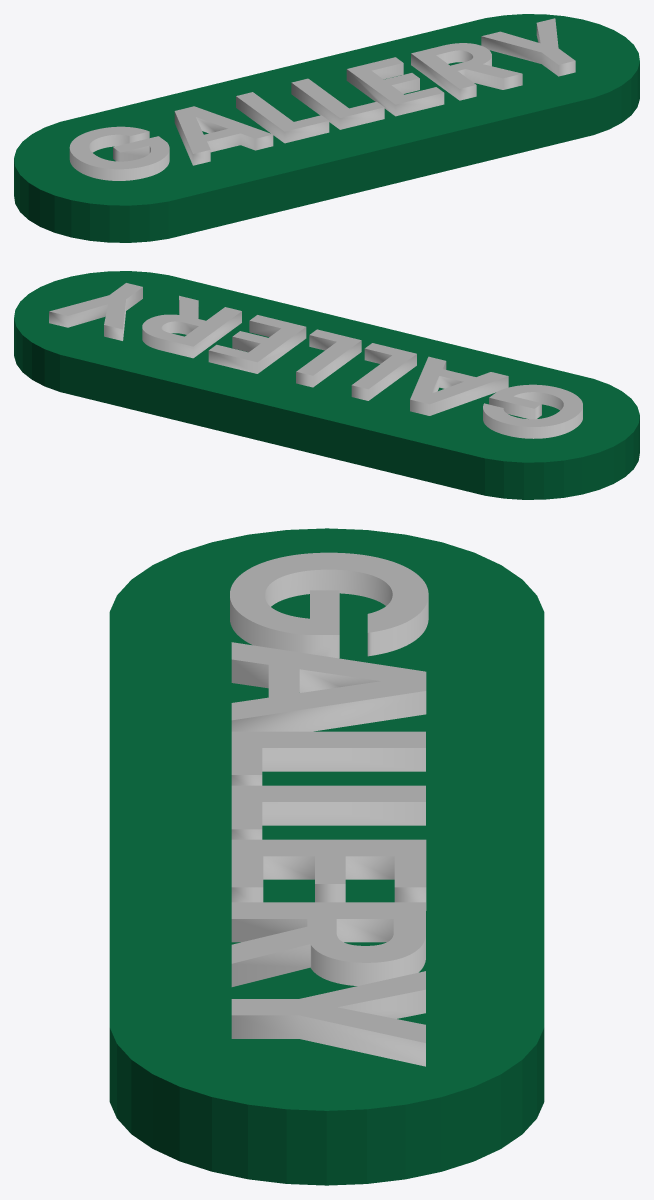
Rendered from gallery_button.gltf.
3 views of the same model, one above another, from view 1: azimuth 30°, elevation 25°; view 2: azimuth 150°, elevation 25°; view 3: azimuth 270°, elevation 25° (orthographic). The views are drawn at different scales.
Visible parts, largest first — view 1: Circle.002; view 2: Circle.002; view 3: Circle.002.
Part boxes in pixels (<box>): Circle.002: <box>14,14,639,242</box>; Circle.002: <box>14,271,639,499</box>; Circle.002: <box>109,528,544,1185</box>.
Bounding box in the file's own units: 0.7007 × 0.0551 × 0.2211.
